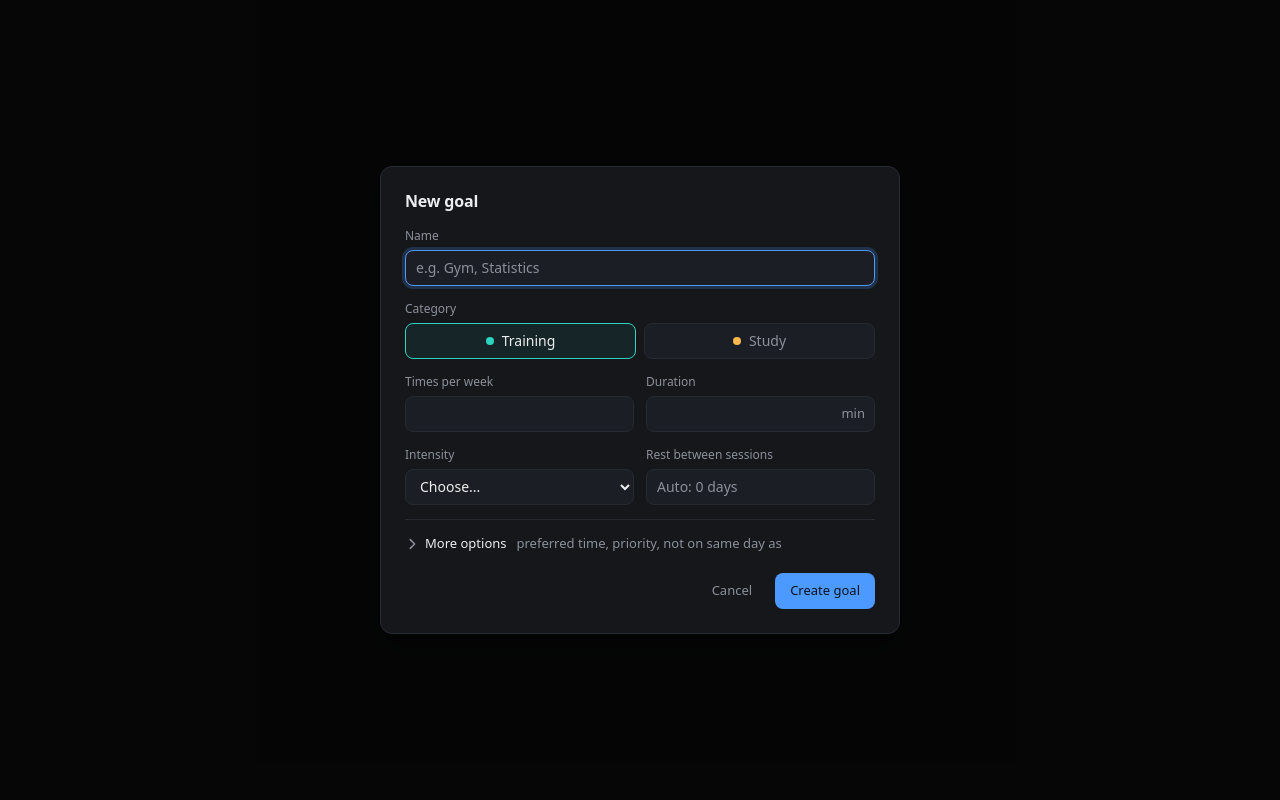
it: GoalDialog dirty check › asks before discarding changes on a backdrop click
Type "Run" into the field labelled "Name" at x=640, y=268, box [405,250,875,286]
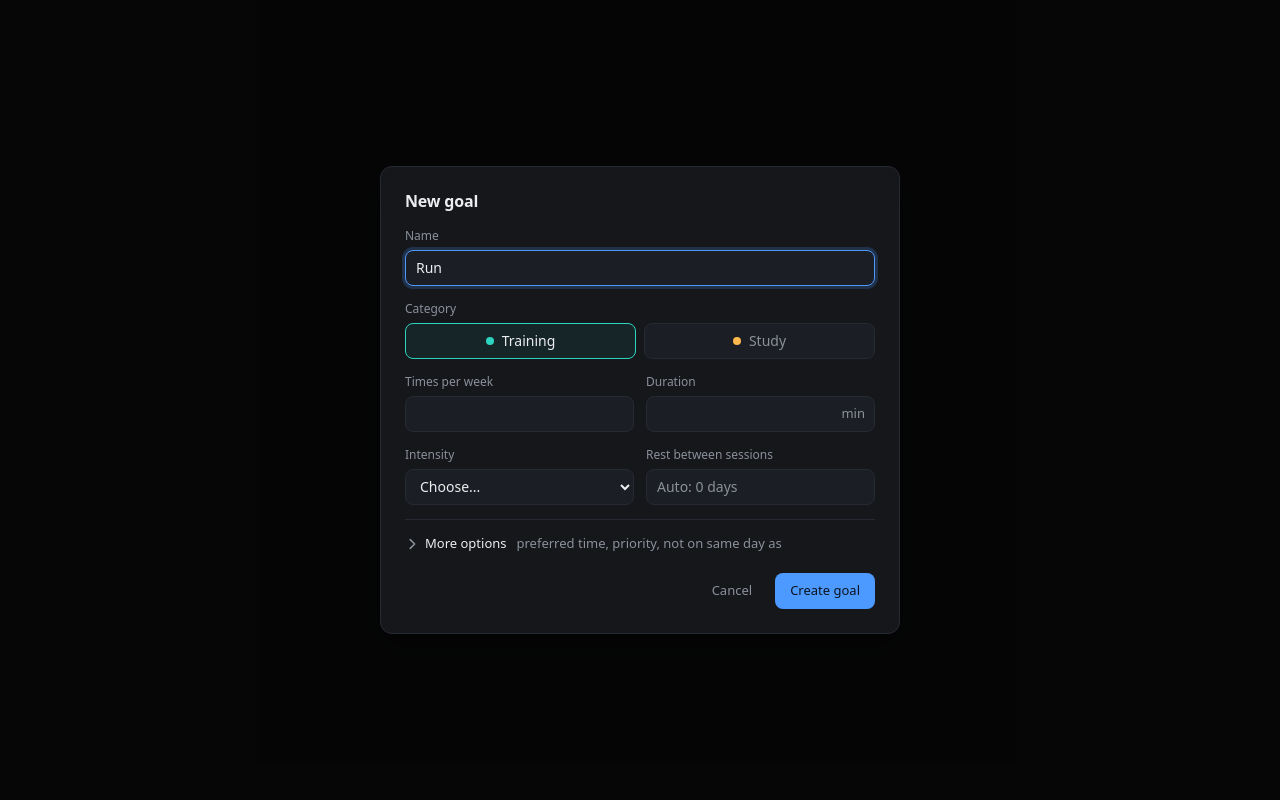
Click the dialog "New goal" at x=640, y=400, box [380,166,900,634]
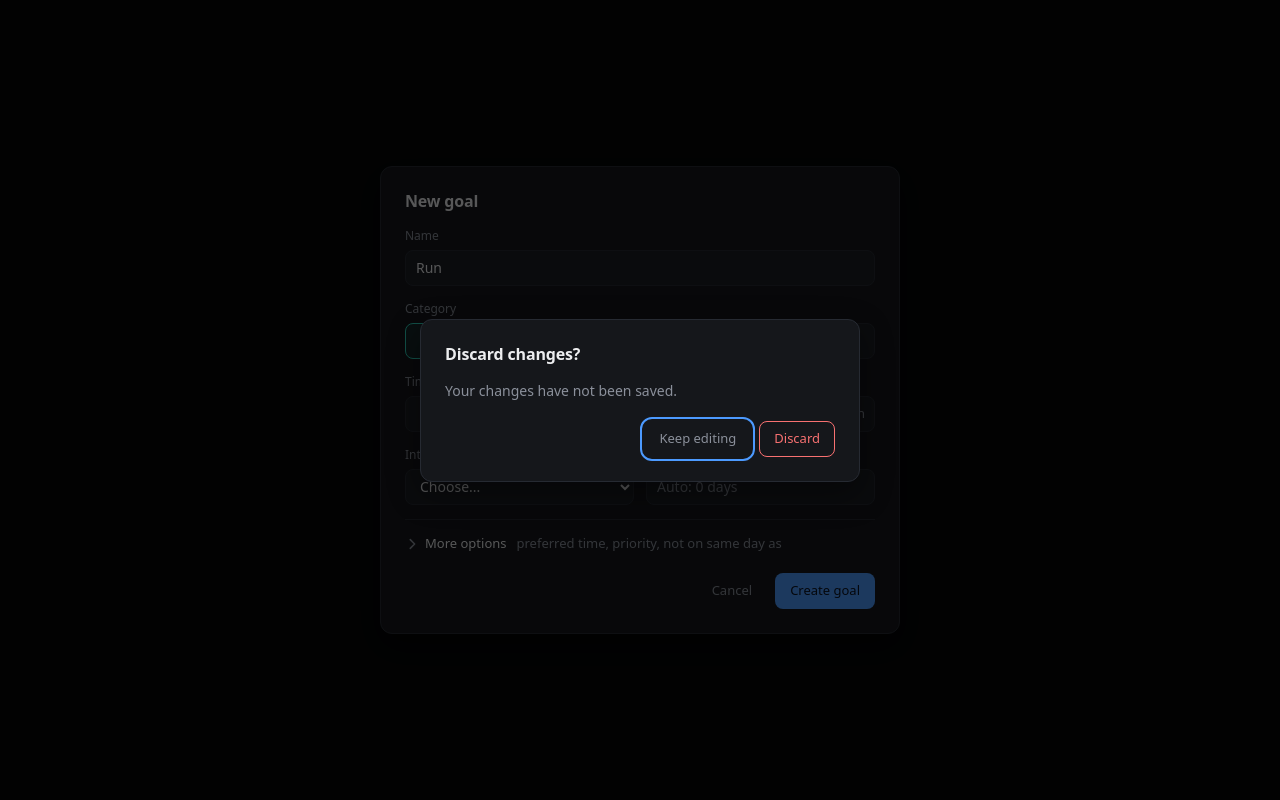
Expected: the dialog "Discard changes?" is shown, [420,318,860,482]
